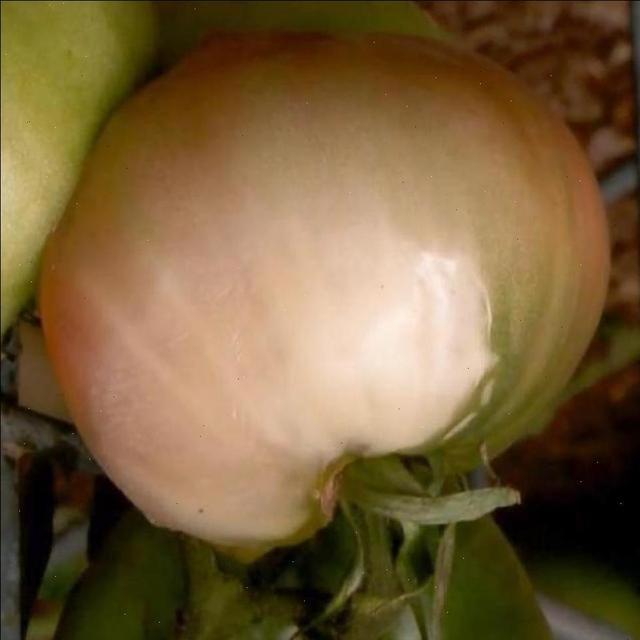Sunscald Fruit: (58, 146, 338, 362)
